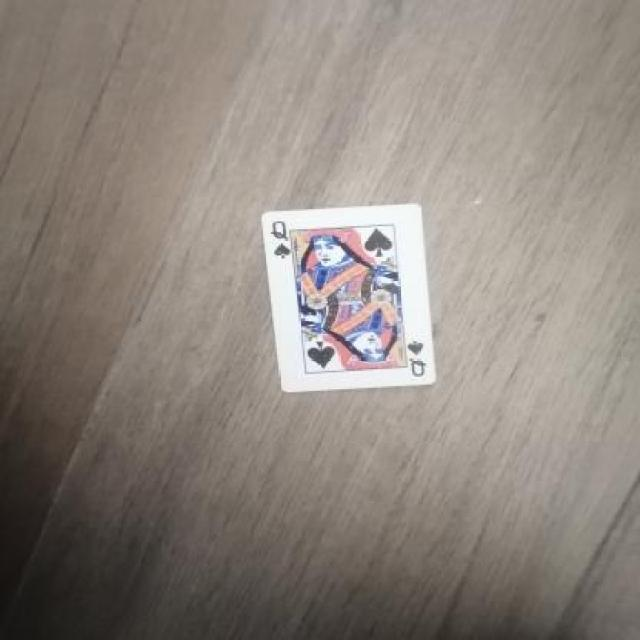QS: (266, 217, 302, 269), (401, 331, 436, 375)
